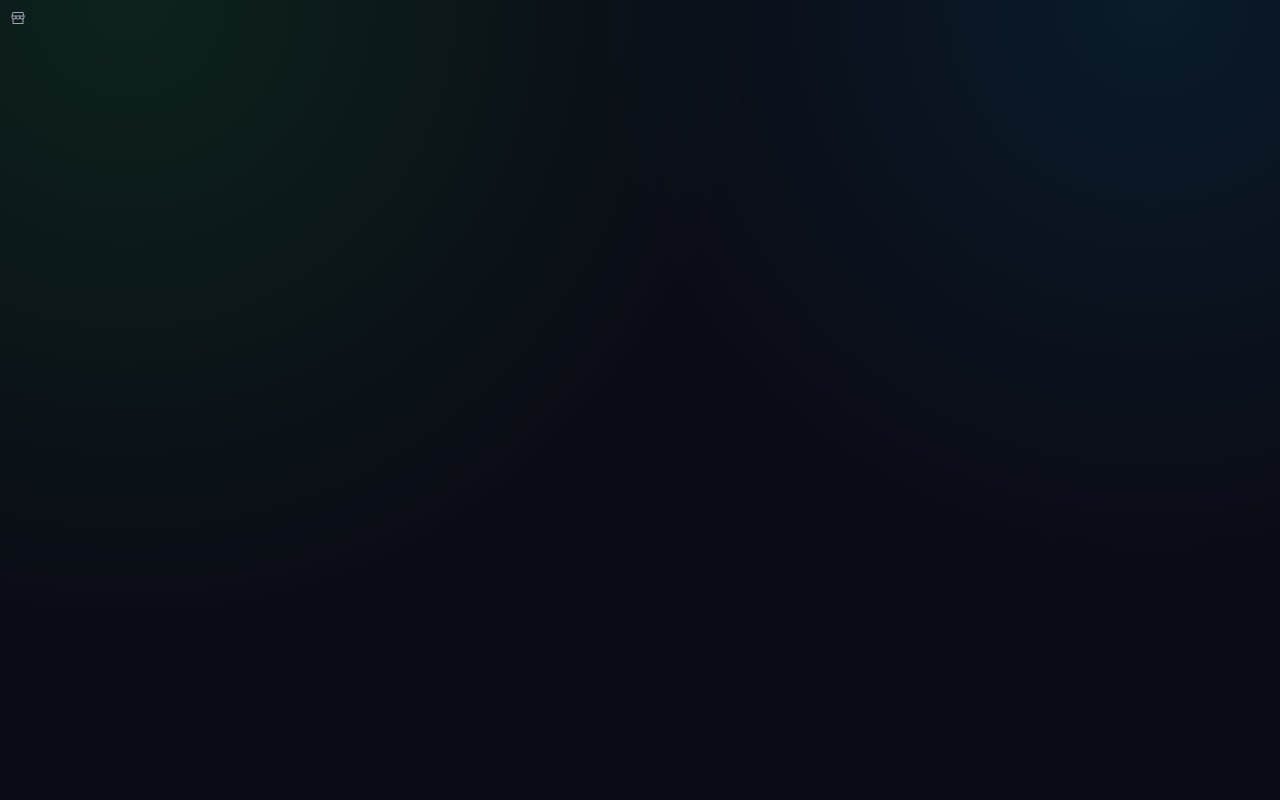
Test: WhatsApp Catalog Integration & Inbox Dispatch › sends store catalog link when 'Enviar catálogo' is clicked
The image size is (1280, 800).
Later steps or results of the test are not shown.
Click the button named "Abrir catálogo WhatsApp" at x=18, y=18, box [0,0,36,36]
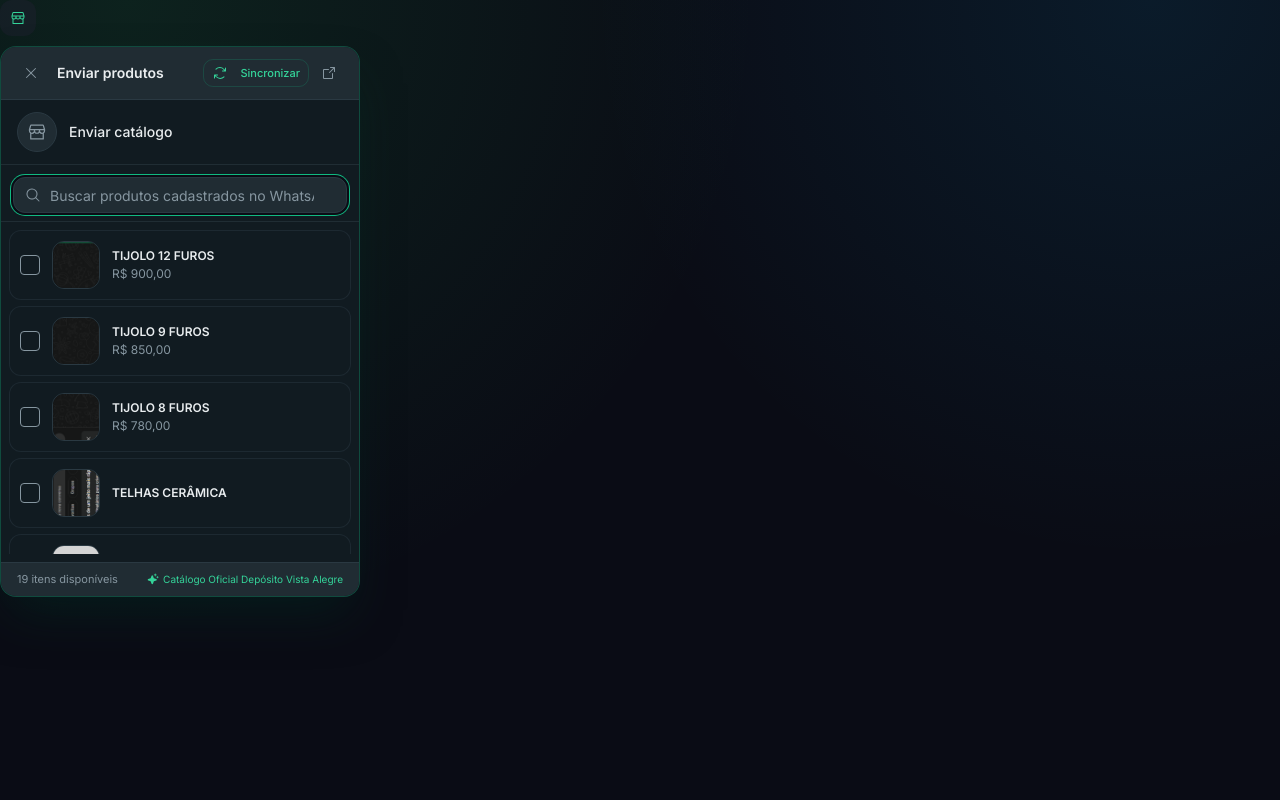
Now the element showing "Enviar catálogo" is shown, box [1,100,359,165]
